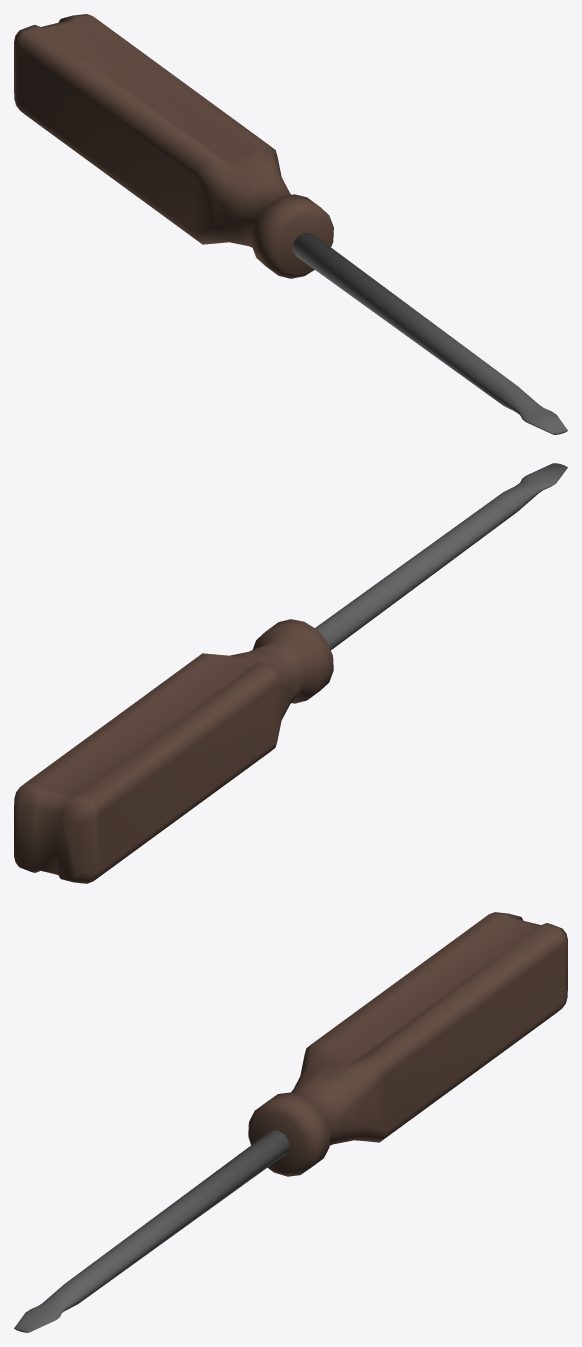
Rendered from Screwdriver.glb.
The picture shows the model from 3 angles, top to bottom: view 1: azimuth 30°, elevation 25°; view 2: azimuth 150°, elevation 25°; view 3: azimuth 330°, elevation 25°; orthographic projection.
Parts seen in each view (by area): view 1: Screwdriver; view 2: Screwdriver; view 3: Screwdriver.
Part boxes in pixels (<box>): Screwdriver: <box>14,14,567,434</box>; Screwdriver: <box>14,463,567,883</box>; Screwdriver: <box>14,912,567,1332</box>.
Bounding box in the file's own units: 0.0228 × 0.0228 × 0.2476.
